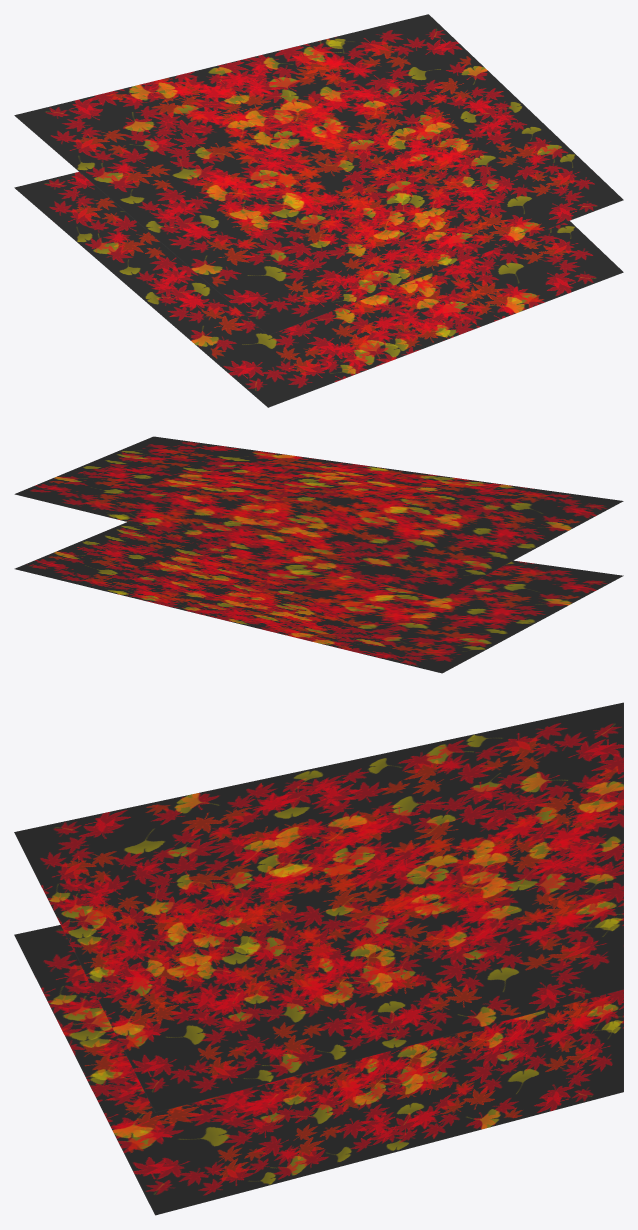
File: CourseAki_CurveFloor_3_31.fbx
The picture shows the model from 3 angles, top to bottom: view 1: azimuth 30°, elevation 25°; view 2: azimuth 150°, elevation 25°; view 3: azimuth 270°, elevation 25°; orthographic projection. The views are drawn at different scales.
Parts seen in each view (by area): view 1: polySurface480; view 2: polySurface480; view 3: polySurface480.
Boxes of the visible parts, left/top/right/bottom form: polySurface480: left=14, top=14, right=623, bottom=407; polySurface480: left=14, top=436, right=623, bottom=673; polySurface480: left=14, top=702, right=623, bottom=1215.
Bounding box in the file's own units: 6.44 × 2 × 5.39.
1 material, 1 textured.
